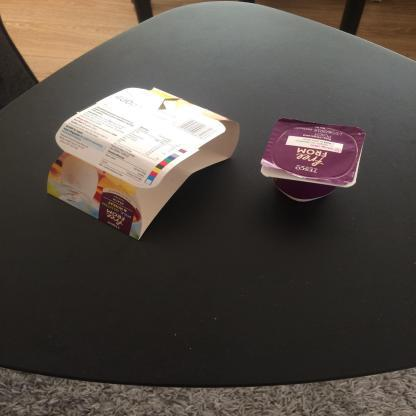karton: (47, 87, 241, 241)
plastik: (262, 118, 367, 204)
